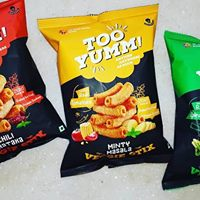plastic: (61, 4, 160, 174), (1, 3, 46, 160)
tooyumm: (73, 26, 146, 63)
wrapper: (49, 16, 168, 162), (1, 2, 65, 138), (167, 33, 200, 191)
